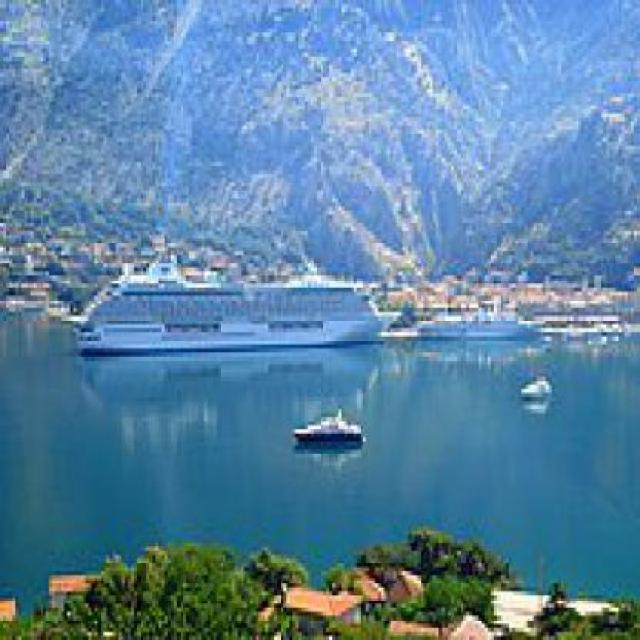cruise: (50, 227, 413, 366)
